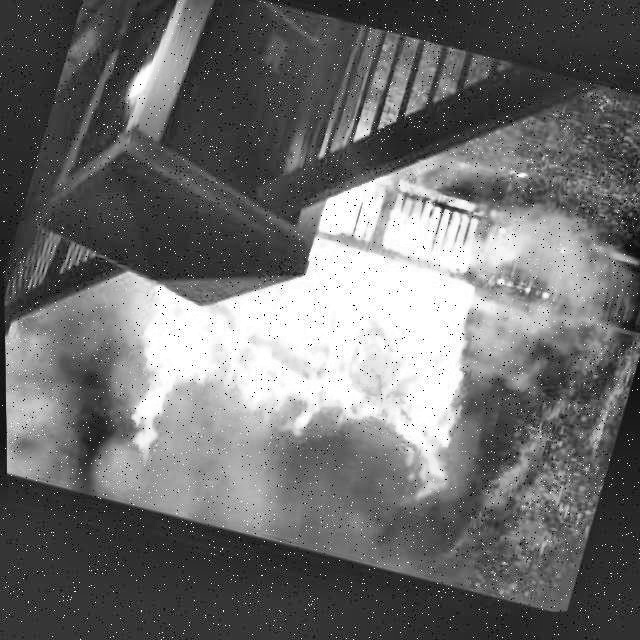Fire: (101, 140, 533, 551)
